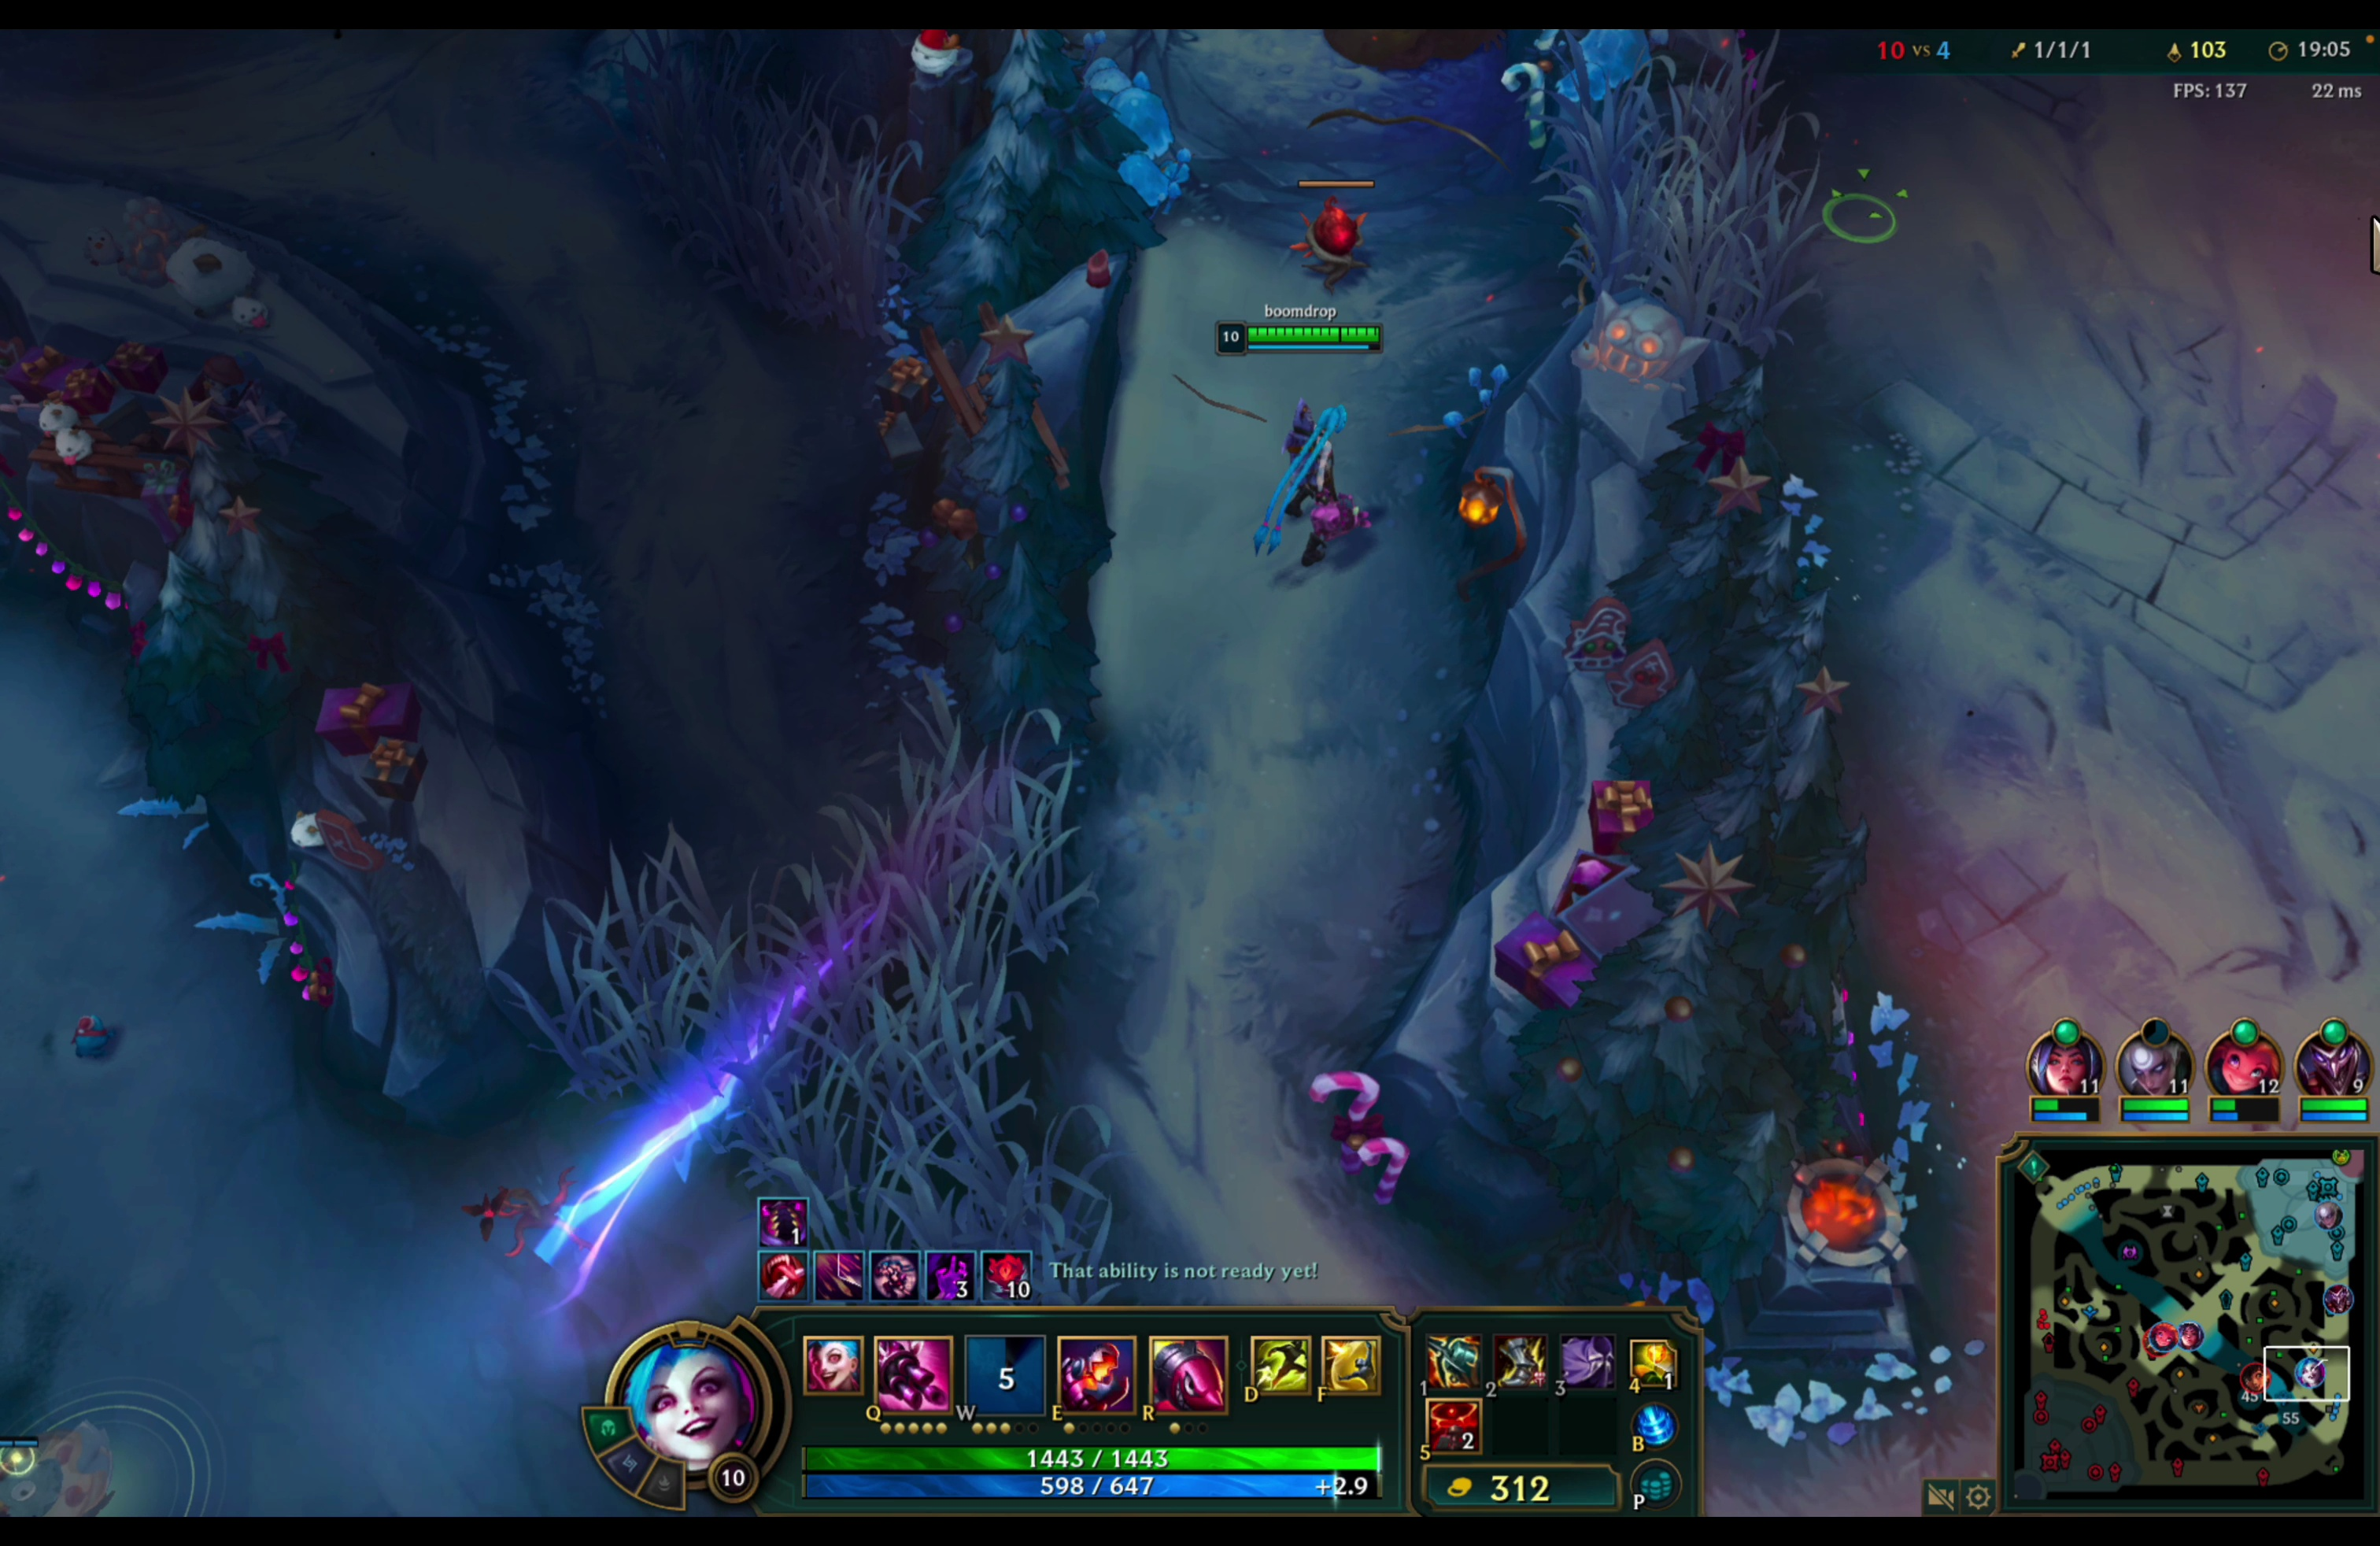JINX_W_PROJECTILE: (501, 852, 928, 1315)
